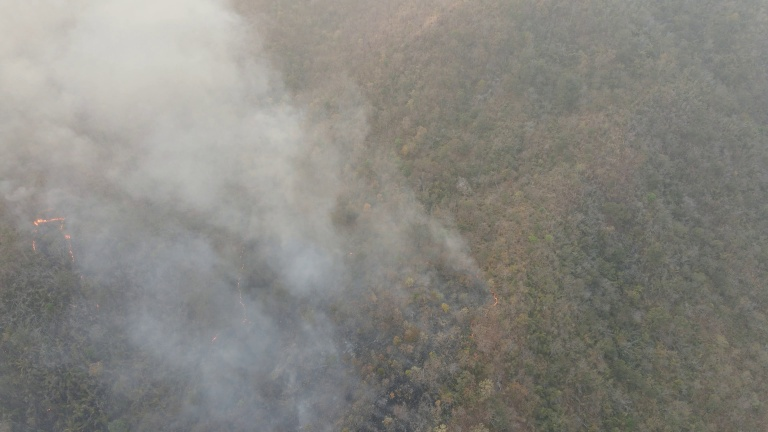fire: (208, 245, 259, 349), (27, 214, 79, 275), (466, 275, 508, 343)
smoke: (1, 1, 509, 430)
